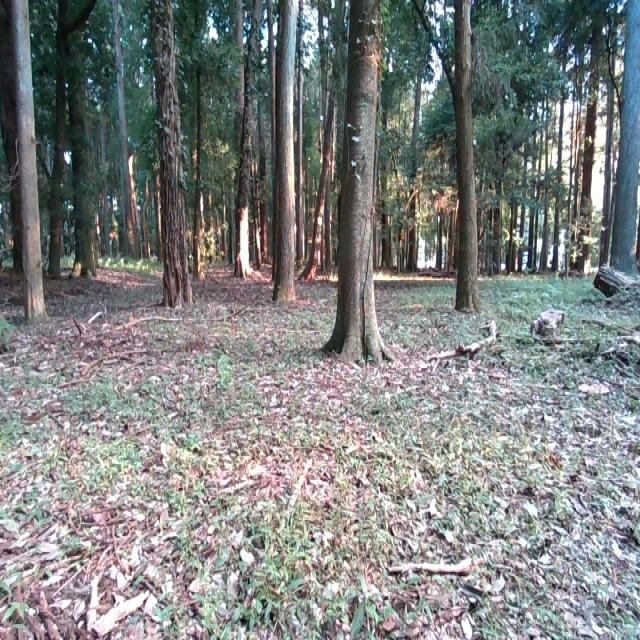tree: (322, 0, 394, 365), (146, 0, 194, 315), (6, 0, 53, 319), (62, 0, 104, 283), (447, 0, 484, 317), (228, 0, 267, 280), (305, 0, 342, 284), (606, 0, 640, 287), (111, 1, 148, 264), (272, 0, 301, 304), (575, 0, 607, 275), (404, 0, 428, 272)
